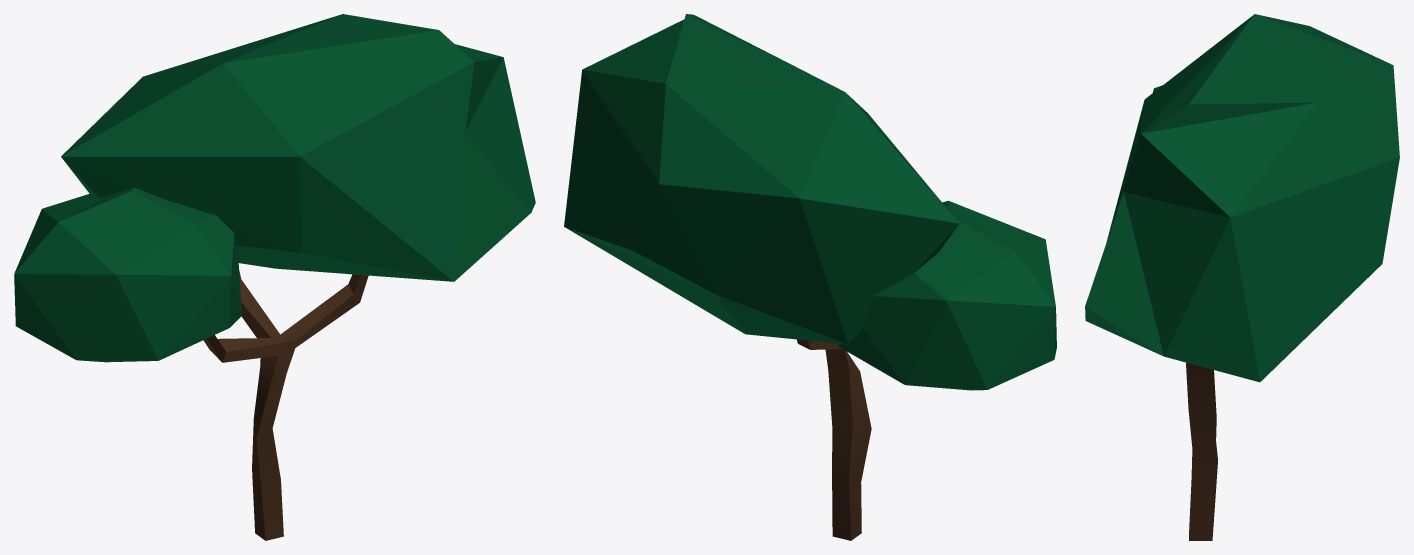
File: Deci_Tree_02.fbx
The picture shows the model from 3 angles, left to right: view 1: azimuth 30°, elevation 25°; view 2: azimuth 150°, elevation 25°; view 3: azimuth 270°, elevation 25°; orthographic projection. The views are drawn at different scales.
Visible parts, largest first — view 1: Tree2_Canopy, Tree2_Canopy2, Tree2; view 2: Tree2_Canopy, Tree2_Canopy2, Tree2; view 3: Tree2_Canopy, Tree2.
Boxes of the visible parts, box(x1,y1,x2,y2) form: Tree2_Canopy: box(61, 14, 535, 281); Tree2_Canopy2: box(14, 187, 241, 362); Tree2: box(203, 270, 368, 540); Tree2_Canopy: box(564, 14, 959, 344); Tree2_Canopy2: box(839, 200, 1056, 390); Tree2: box(797, 339, 871, 540); Tree2_Canopy: box(1085, 14, 1399, 382); Tree2: box(1186, 362, 1217, 540).
Size of the model in its own units: 260 by 241 by 132.
